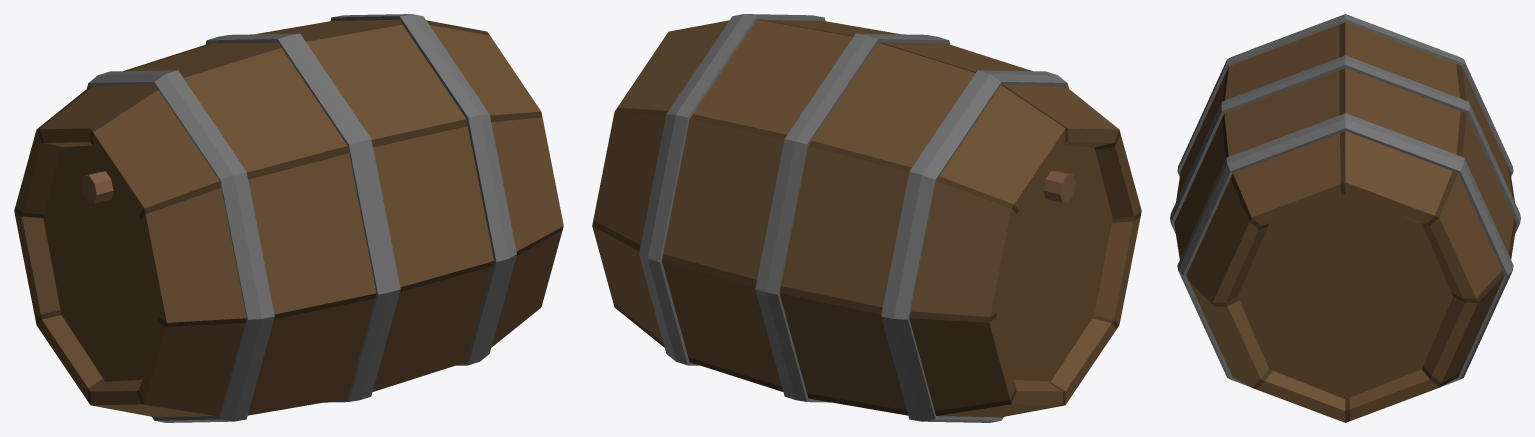
File: Cellar_Barrel.fbx
The picture shows the model from 3 angles, left to right: view 1: azimuth 30°, elevation 25°; view 2: azimuth 150°, elevation 25°; view 3: azimuth 270°, elevation 25°; orthographic projection. The views are drawn at different scales.
Visible parts, largest first — view 1: Barril_Bodega; view 2: Barril_Bodega; view 3: Barril_Bodega.
Part boxes in pixels (x1,y1,x2,y2): Barril_Bodega: [14, 14, 563, 422]; Barril_Bodega: [592, 14, 1141, 422]; Barril_Bodega: [1170, 14, 1520, 422].
Size of the model in its own units: 178 by 156 by 156.
